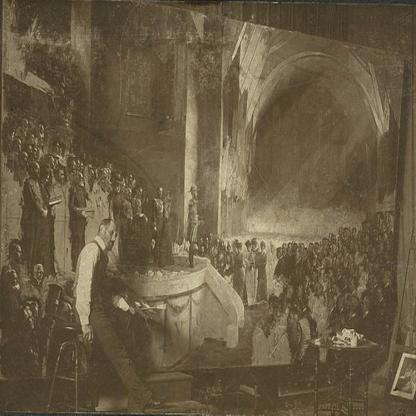face: (104, 225, 118, 251), (26, 311, 36, 330), (10, 273, 20, 289), (14, 247, 23, 263), (67, 307, 75, 323), (39, 131, 46, 147), (36, 267, 44, 280), (59, 170, 66, 184), (35, 164, 41, 177), (362, 300, 368, 313), (288, 314, 294, 326), (18, 140, 23, 153), (11, 131, 16, 143), (353, 297, 358, 309), (51, 159, 56, 170), (80, 174, 85, 185), (128, 189, 133, 200), (377, 289, 382, 300), (29, 147, 34, 158), (270, 303, 274, 316), (24, 153, 29, 163), (117, 184, 122, 194), (159, 188, 164, 198), (25, 121, 30, 131), (90, 168, 95, 178), (338, 300, 343, 310), (350, 282, 355, 292), (72, 159, 76, 171), (194, 192, 199, 200), (31, 135, 35, 145), (35, 148, 39, 158), (132, 182, 137, 190), (56, 144, 60, 153), (345, 296, 349, 305), (103, 171, 107, 180), (35, 139, 40, 146), (305, 277, 309, 285), (312, 272, 316, 280), (384, 275, 387, 284), (140, 189, 143, 198), (329, 269, 332, 278), (207, 238, 210, 246), (283, 245, 286, 253), (60, 148, 63, 155), (135, 190, 138, 197), (289, 245, 292, 252), (228, 247, 232, 252), (249, 246, 252, 252), (78, 161, 81, 167), (255, 245, 258, 251), (239, 247, 242, 253), (278, 251, 281, 257), (202, 248, 205, 253), (262, 246, 265, 251), (210, 233, 212, 238), (82, 164, 83, 169)
